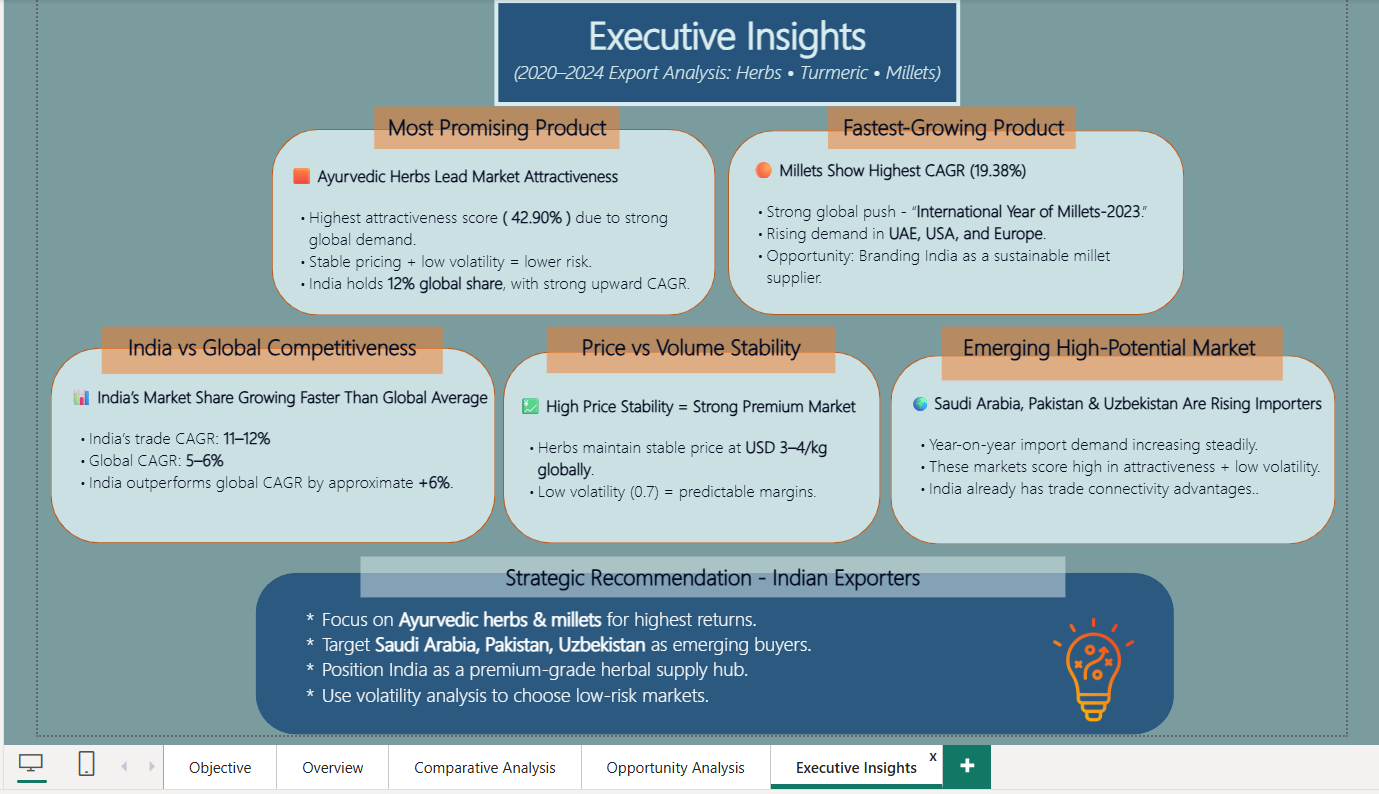

The page's visual inventory and layout, read from the dashboard file:
{"tool":"powerbi","page":{"name":"Executive Insights","canvas":[1280,720],"ordinal":4},"visuals":[{"type":"textbox","box":[446.3,0,456.1,105.2],"z":0},{"type":"group","id":"g1","title":"Group 2","box":[212.8,545.4,898.8,174.9],"z":0,"group":"g13"},{"type":"group","id":"g2","title":"Group 2","box":[228.7,105.2,434.1,204.2],"z":1000},{"type":"image","box":[957.8,598.7,150.4,113.7],"z":1000,"group":"g13"},{"type":"group","id":"g3","title":"Group 2","box":[454.9,320.4,369.3,212.8],"z":2000},{"type":"group","id":"g4","title":"Group 3","box":[675,105.2,446.3,204.2],"z":3000},{"type":"shape","box":[228.7,127,434.1,182.5],"z":3502,"group":"g6"},{"type":"shape","box":[675,128.1,446.3,180.8],"z":3502,"group":"g7"},{"type":"shape","box":[12.5,341.6,435.3,191.4],"z":3502,"group":"g8"},{"type":"shape","box":[454.9,345.4,369.3,187.7],"z":3502,"group":"g9"},{"type":"shape","box":[834,348.3,435.3,185.1],"z":3502,"group":"g10"},{"type":"shape","box":[212.8,561.9,898.8,158.4],"z":3502,"group":"g11"},{"type":"group","id":"g5","title":"Group 2","box":[834,320.4,435.3,212.8],"z":4000},{"type":"textbox","box":[328.6,105.2,240.2,41.5],"z":4002,"group":"g6"},{"type":"textbox","box":[772.8,105.2,242.1,41.8],"z":4002,"group":"g7"},{"type":"textbox","box":[62.6,320.4,333.8,46.2],"z":4002,"group":"g8"},{"type":"textbox","box":[497.7,320.4,282.5,45.8],"z":4002,"group":"g9"},{"type":"textbox","box":[884.2,320.4,333.8,52.9],"z":4002,"group":"g10"},{"type":"textbox","box":[315.6,545.4,689.4,39.7],"z":4002,"group":"g11"},{"type":"group","id":"g6","title":"Group 1","box":[228.7,105.2,434.1,204.2],"z":4504,"group":"g2"},{"type":"group","id":"g7","title":"Group 1","box":[675,105.2,446.3,203.7],"z":4504,"group":"g4"},{"type":"group","id":"g8","title":"Group 1","box":[12.5,320.4,435.3,212.6],"z":4504,"group":"g12"},{"type":"group","id":"g9","title":"Group 1","box":[454.9,320.4,369.3,212.8],"z":4504,"group":"g3"},{"type":"group","id":"g10","title":"Group 1","box":[834,320.4,435.3,213],"z":4504,"group":"g5"},{"type":"group","id":"g11","title":"Group 1","box":[212.8,545.4,898.8,174.9],"z":4504,"group":"g1"},{"type":"group","id":"g12","title":"Group 2","box":[12.5,320.4,435.3,212.8],"z":5000},{"type":"textbox","box":[241.5,156.6,420.7,138.2],"z":5004,"group":"g2"},{"type":"textbox","box":[27.1,373.1,420.7,147.7],"z":5004,"group":"g12"},{"type":"textbox","box":[848.6,378.8,420.7,142.8],"z":5004,"group":"g5"},{"type":"textbox","box":[465.4,381.6,357.1,130],"z":5004,"group":"g3"},{"type":"textbox","box":[242.4,588.7,868.8,110.7],"z":5004,"group":"g1"},{"type":"textbox","box":[689.7,150.5,412.1,150.8],"z":5007,"group":"g4"},{"type":"group","id":"g13","title":"Group 4","box":[212.8,545.4,898.8,174.9],"z":6003}]}

Visuals, with their boxes on the page's 1280x720 design canvas (x1, y1, x2, y2). These are canvas units, not pixel positions in the 1379x794 screenshot, which may show the page scaled, cropped or inside an application window:
textbox: 446, 0, 902, 105
"Group 2" group: 213, 545, 1112, 720
"Group 2" group: 229, 105, 663, 309
image: 958, 599, 1108, 712
"Group 2" group: 455, 320, 824, 533
"Group 3" group: 675, 105, 1121, 309
shape: 229, 127, 663, 310
shape: 675, 128, 1121, 309
shape: 12, 342, 448, 533
shape: 455, 345, 824, 533
shape: 834, 348, 1269, 533
shape: 213, 562, 1112, 720
"Group 2" group: 834, 320, 1269, 533
textbox: 329, 105, 569, 147
textbox: 773, 105, 1015, 147
textbox: 63, 320, 396, 367
textbox: 498, 320, 780, 366
textbox: 884, 320, 1218, 373
textbox: 316, 545, 1005, 585
"Group 1" group: 229, 105, 663, 309
"Group 1" group: 675, 105, 1121, 309
"Group 1" group: 12, 320, 448, 533
"Group 1" group: 455, 320, 824, 533
"Group 1" group: 834, 320, 1269, 533
"Group 1" group: 213, 545, 1112, 720
"Group 2" group: 12, 320, 448, 533
textbox: 242, 157, 662, 295
textbox: 27, 373, 448, 521
textbox: 849, 379, 1269, 522
textbox: 465, 382, 822, 512
textbox: 242, 589, 1111, 699
textbox: 690, 150, 1102, 301
"Group 4" group: 213, 545, 1112, 720
